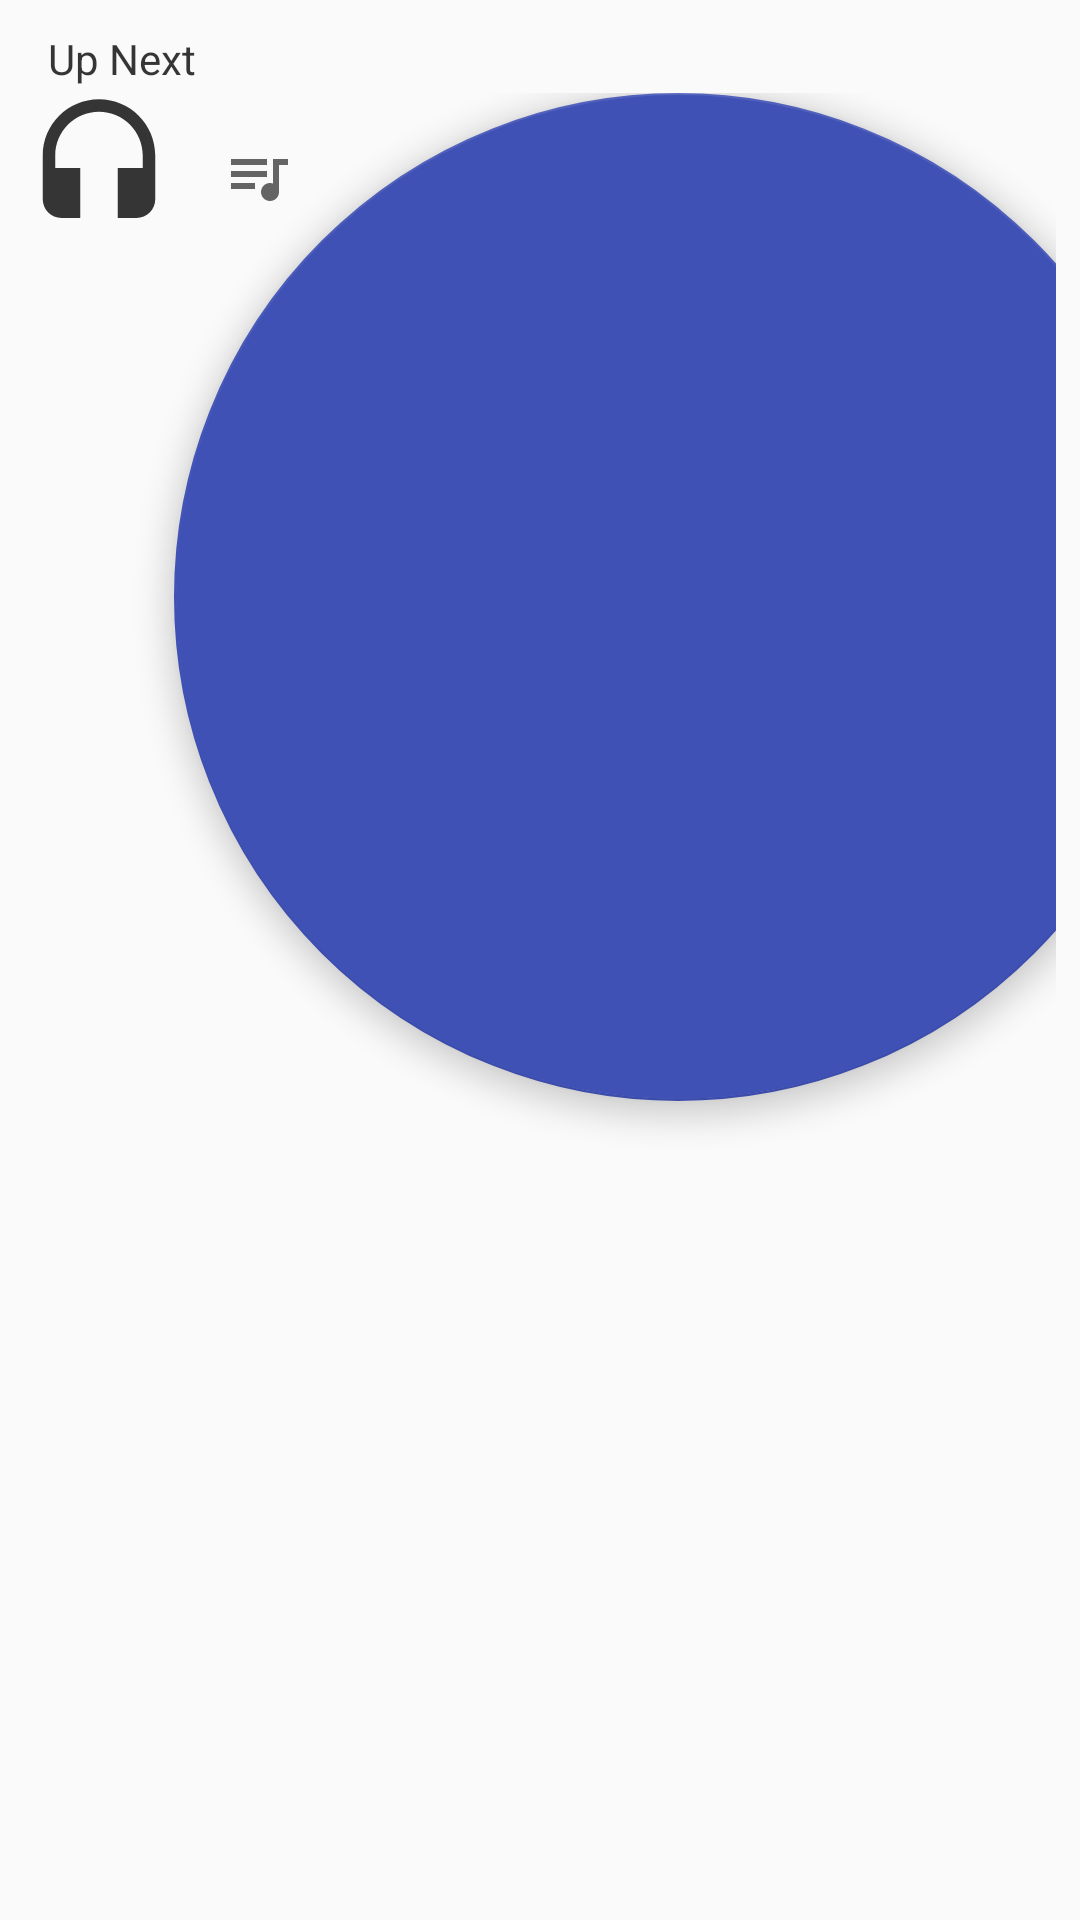

Screen size 1080px×1920px. Icon name, then its box in pixels as (x1, y1, x2, y2):
headset: (42, 99, 156, 218)
